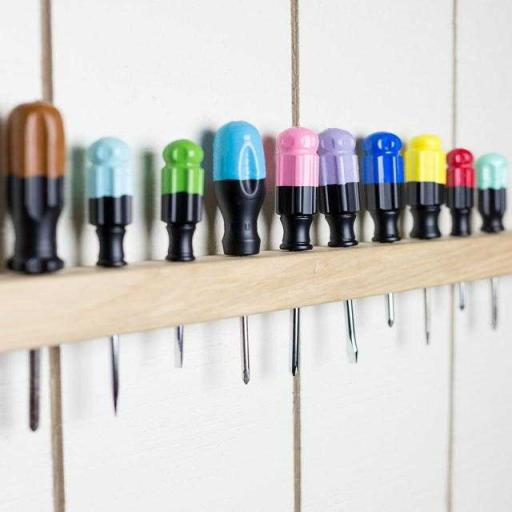screwdriver: (6, 100, 67, 430), (85, 136, 136, 418), (213, 119, 265, 386), (276, 127, 319, 376), (159, 138, 204, 370), (317, 126, 360, 364), (363, 130, 406, 326), (408, 134, 445, 346), (477, 153, 508, 332), (446, 148, 476, 312)
